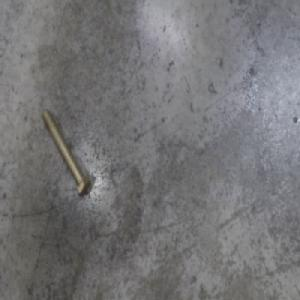Bolt: (40, 104, 92, 199)
